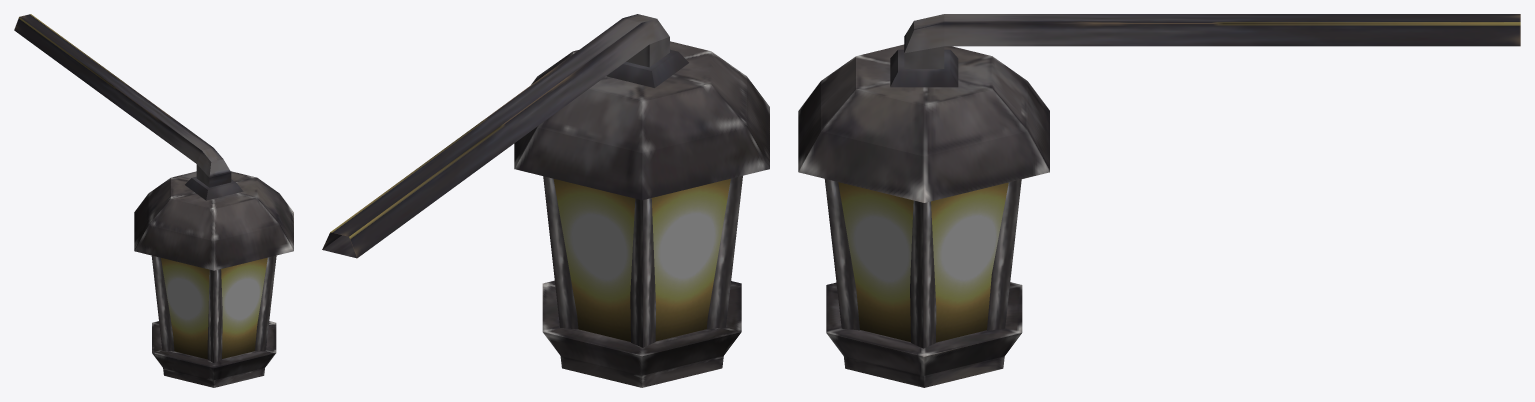
The model's file is fanasty_mod_door_light02.fbx.
3 renders of one model, left to right at view 1: azimuth 30°, elevation 25°; view 2: azimuth 150°, elevation 25°; view 3: azimuth 270°, elevation 25°, orthographic. The views are drawn at different scales.
Parts seen in each view (by area): view 1: door_light_02; view 2: door_light_02; view 3: door_light_02.
Boxes of the visible parts, bbox=[...] form: door_light_02: bbox=[14, 14, 293, 387]; door_light_02: bbox=[322, 14, 769, 387]; door_light_02: bbox=[798, 14, 1520, 387].
Bounding box in the file's own units: 0.4919 × 0.6178 × 1.22.
